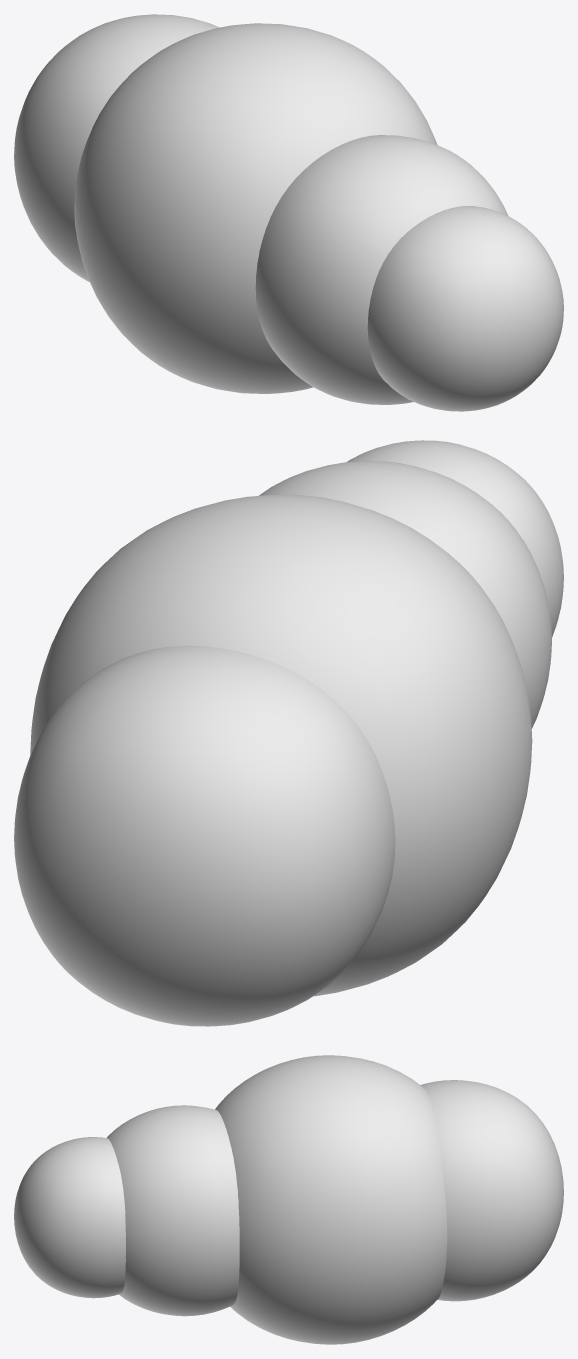
3 renders of one model, top to bottom at view 1: azimuth 30°, elevation 25°; view 2: azimuth 150°, elevation 25°; view 3: azimuth 270°, elevation 25°, orthographic. The views are drawn at different scales.
Visible parts, largest first — view 1: Cube.1432; view 2: Cube.1432; view 3: Cube.1432.
Boxes of the visible parts, bbox=[...] form: Cube.1432: bbox=[14, 14, 563, 411]; Cube.1432: bbox=[14, 440, 563, 1026]; Cube.1432: bbox=[14, 1055, 563, 1344].
Bounding box in the file's own units: 8.99 × 8.96 × 17.28.
Materials: 1 (1 with a texture image).
